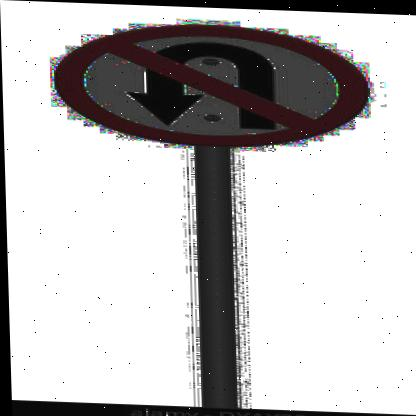No U-turn: (25, 14, 370, 152)
